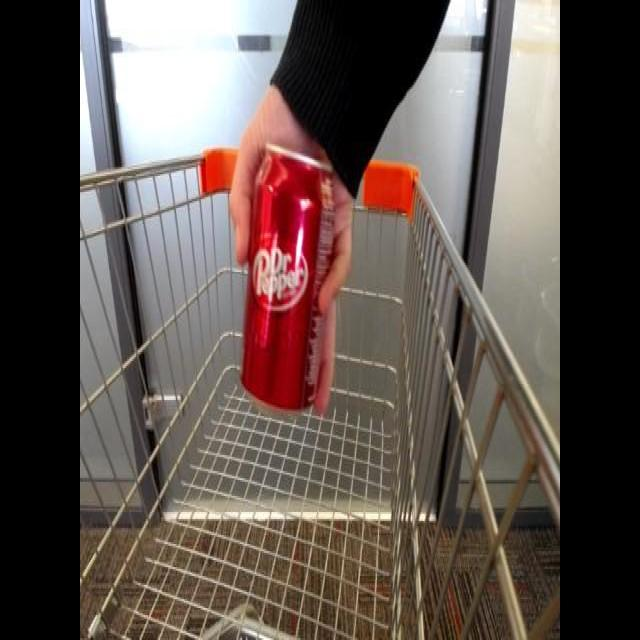Dr Pepper: (230, 144, 342, 423)
